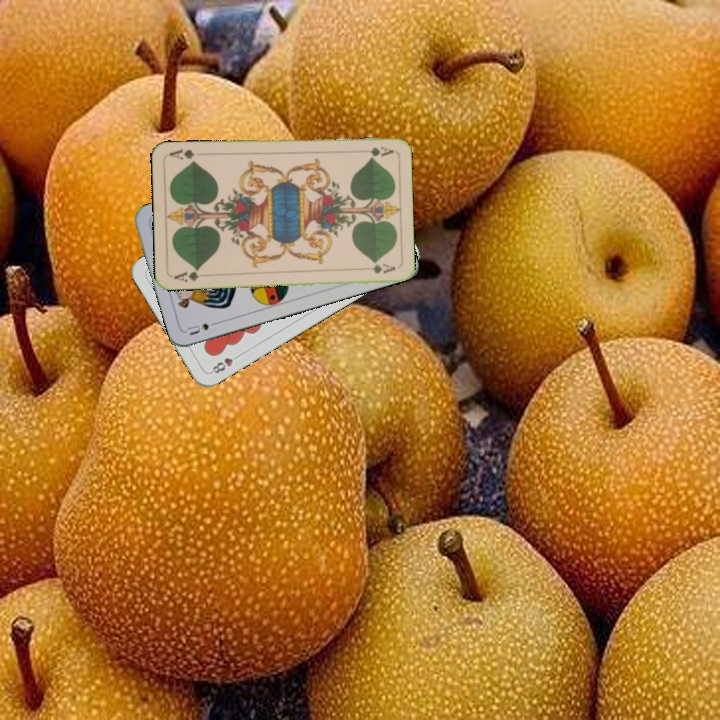GA: (170, 265, 210, 285), (355, 143, 395, 159)
H8: (206, 350, 243, 376)
SU: (183, 317, 222, 338)
